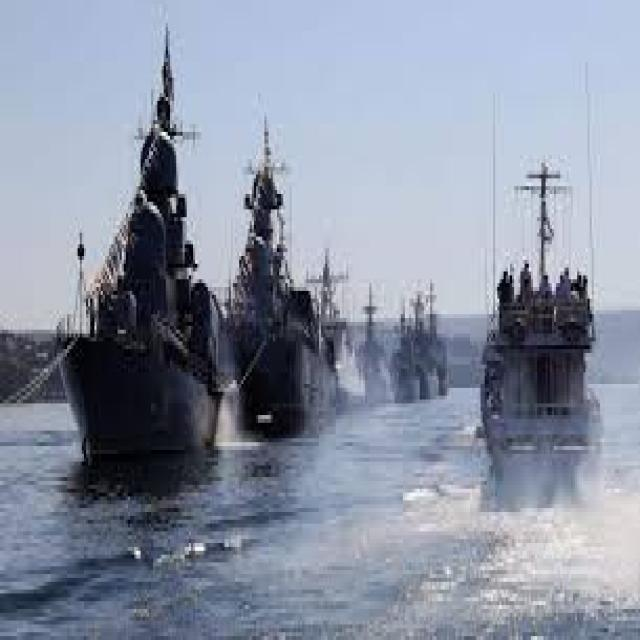navalvessels: (48, 68, 213, 458), (471, 129, 623, 498), (217, 109, 348, 446), (358, 274, 390, 408), (414, 286, 446, 396), (387, 294, 417, 399)
